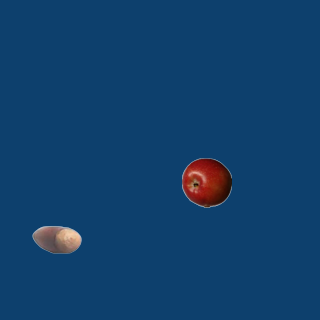Apple Braeburn: (181, 157, 231, 207)
Hazelnut: (31, 214, 81, 264)
